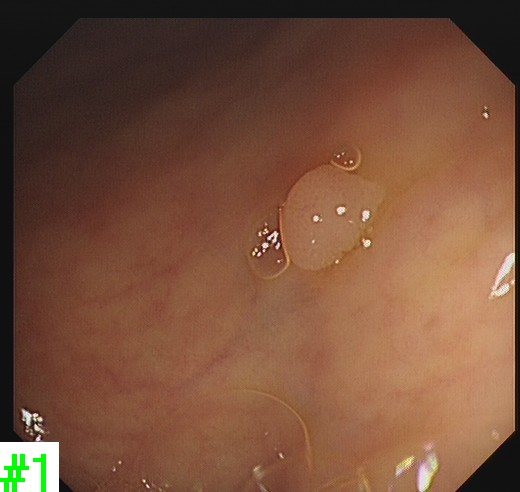adenoma: (273, 162, 390, 275)
